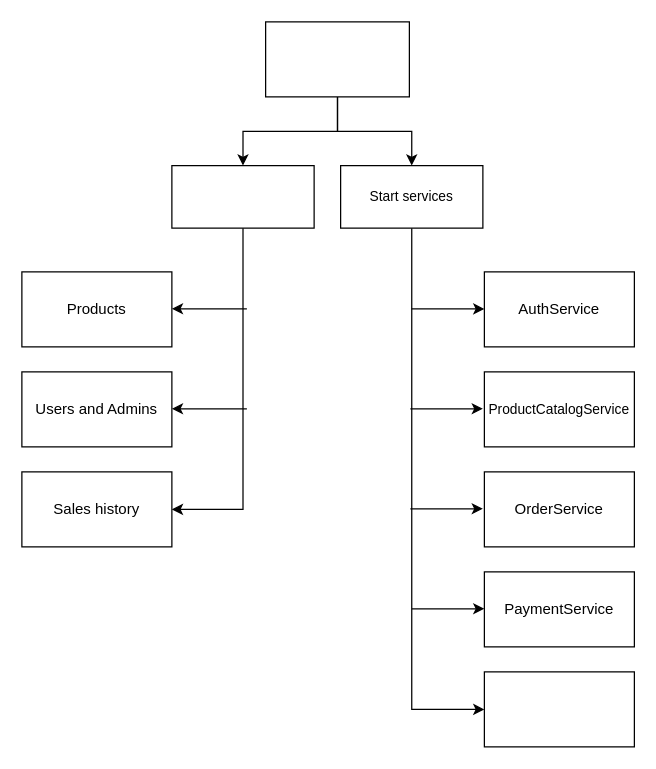
Some shapes in this 656 by 769 pixel diagram are drawn without their labels. Here are the shapes that lost their labels. From the top down, the centre of each, then its label:
the point at 336,59: Startup
the point at 242,196: Load Data
the point at 558,709: ReportService
